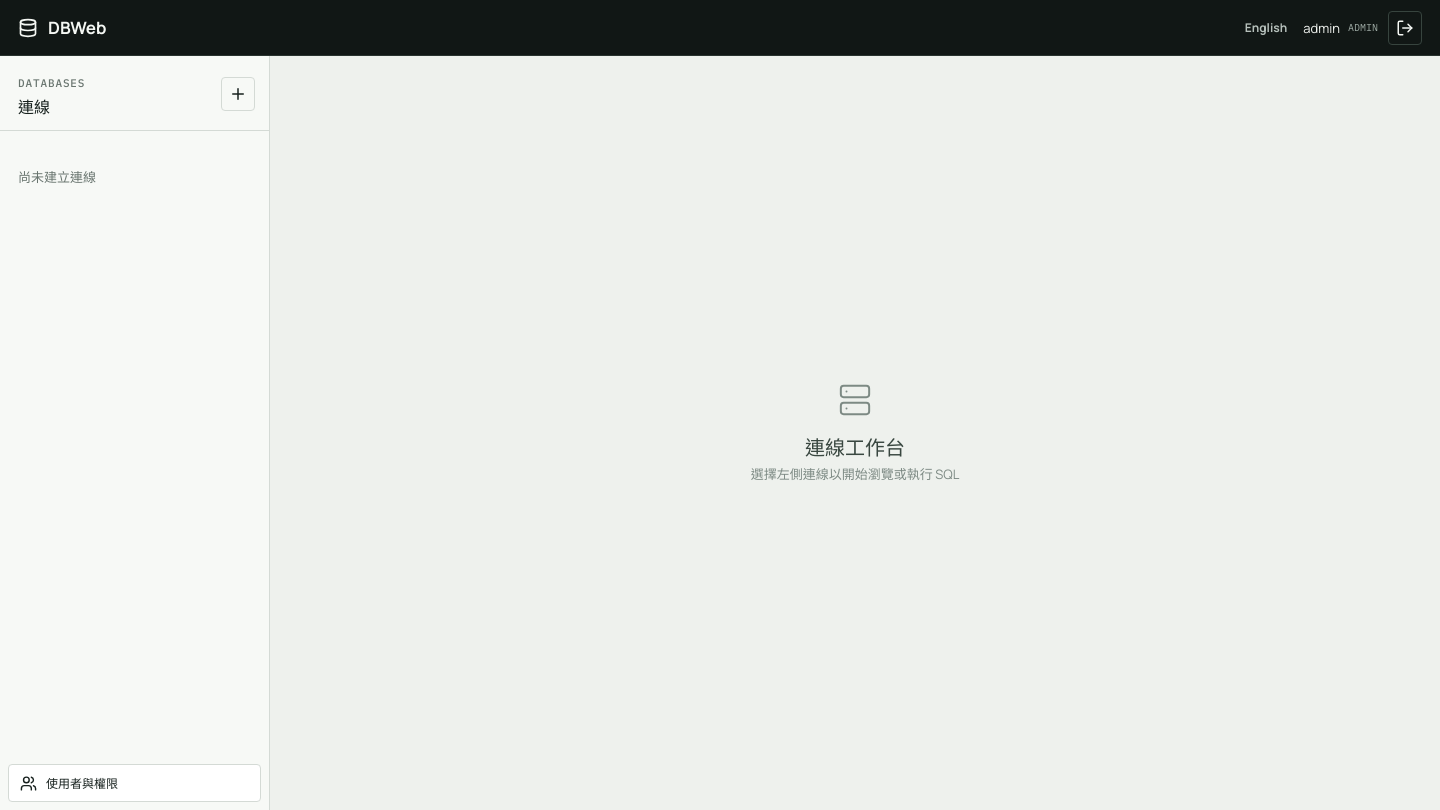
DBWeb application shell › uses the selected language in the authenticated empty workspace
This screenshot has width=1440, height=810.
Expected: the heading "連線工作台" is shown, left=805, top=432, right=905, bottom=461
Step 1. Click the button "English" → (1266, 28), box left=1239, top=13, right=1293, bottom=42
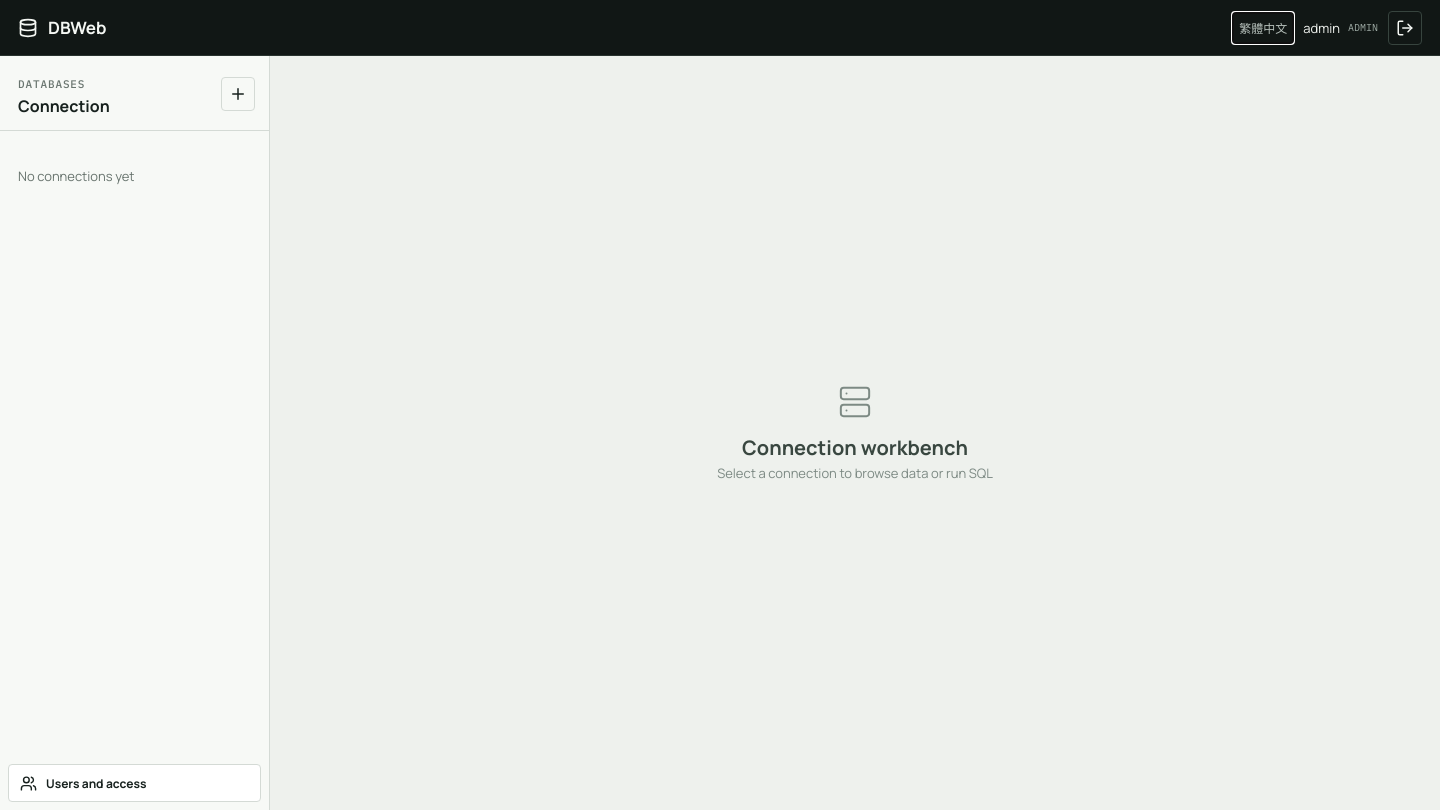
Expected: the heading "Connection workbench" is shown, left=742, top=434, right=968, bottom=460
